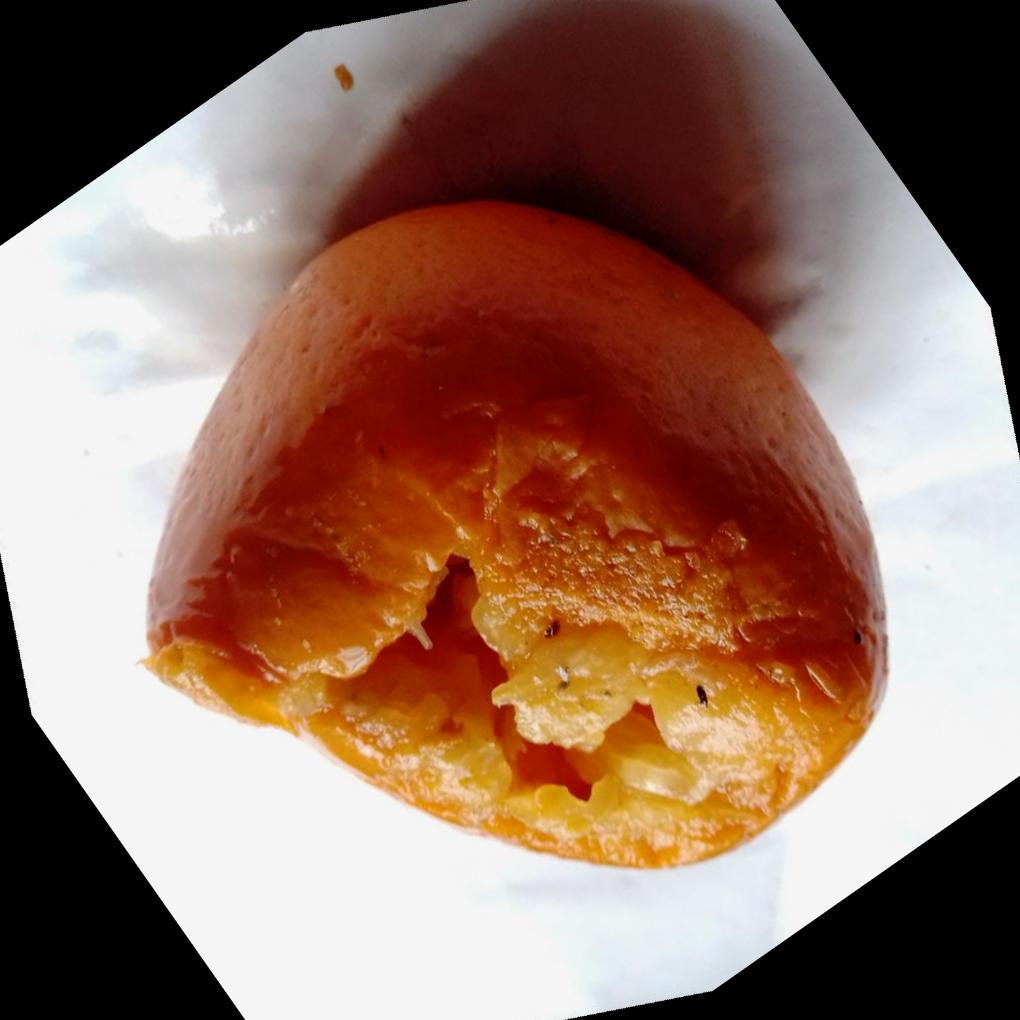FreshOrange: (137, 193, 889, 870)
